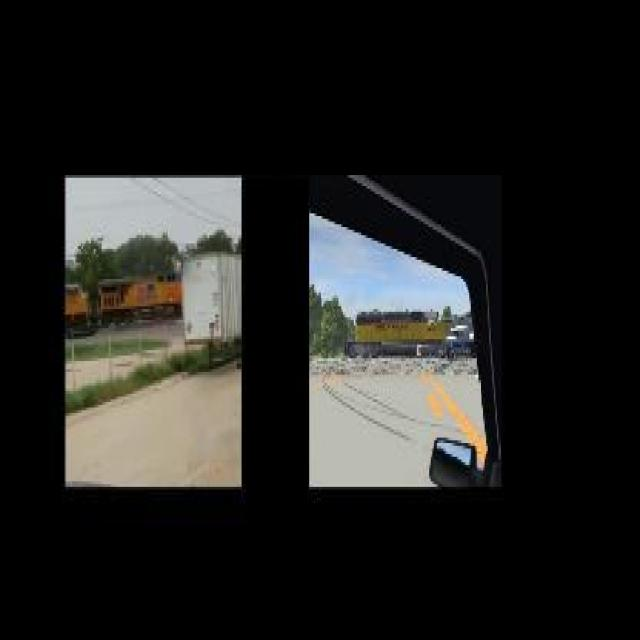accident: (346, 298, 472, 358)
